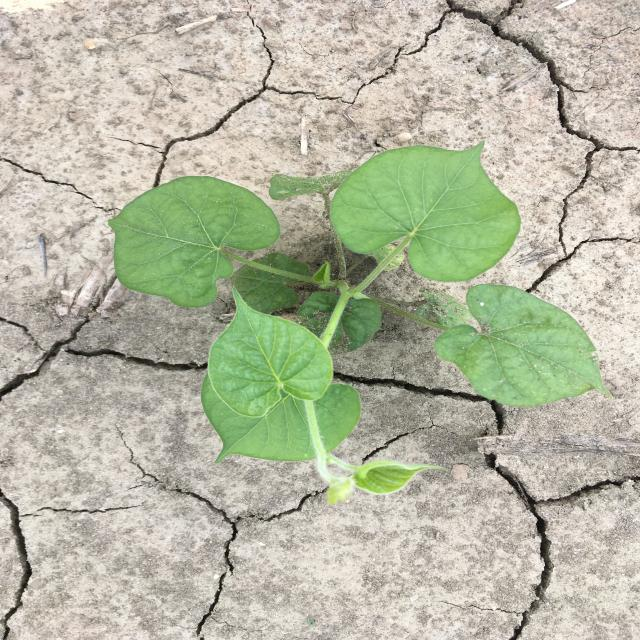MorningGlory: (107, 141, 614, 502)
